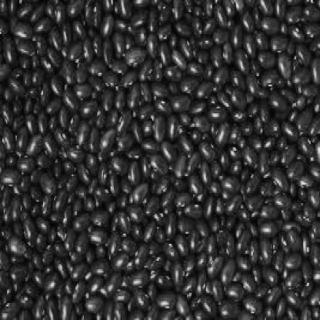other: (1, 4, 317, 314)
